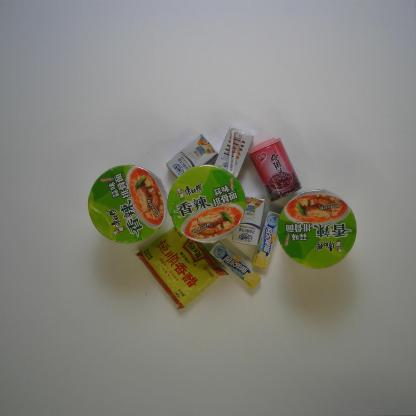Candy: (208, 242, 263, 292), (250, 209, 285, 270)
Canned Food: (244, 136, 301, 203)
Instant Noodles: (274, 186, 371, 276), (84, 163, 172, 246), (167, 164, 250, 248)
Milk: (164, 132, 222, 188), (208, 124, 252, 185), (229, 192, 266, 248)
Seasoner: (134, 219, 231, 312)
